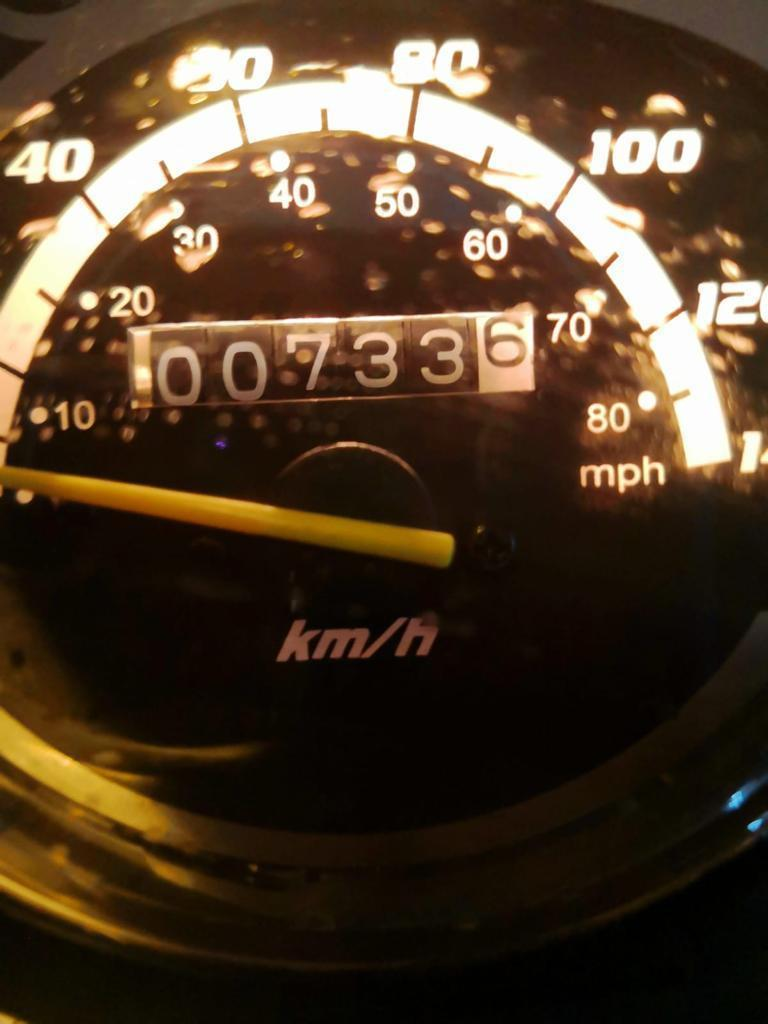0: (150, 336, 207, 418), (222, 334, 273, 404)
3: (350, 322, 403, 393), (417, 323, 465, 400)
6: (480, 311, 536, 382)
7: (276, 322, 338, 400)
odometer: (139, 303, 543, 426)
